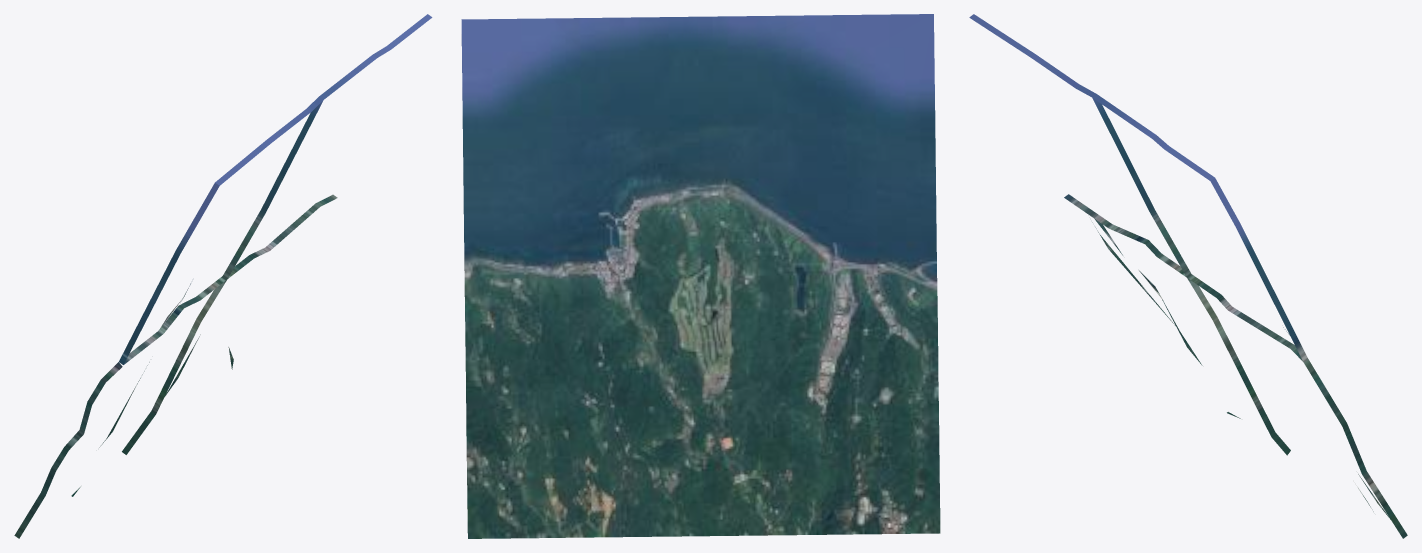
The picture shows the model from 3 angles, left to right: view 1: azimuth 30°, elevation 25°; view 2: azimuth 150°, elevation 25°; view 3: azimuth 270°, elevation 25°; orthographic projection. The views are drawn at different scales.
Bounding box in the file's own units: 4972 × 4401 × 4249.
1 material, 1 textured.
